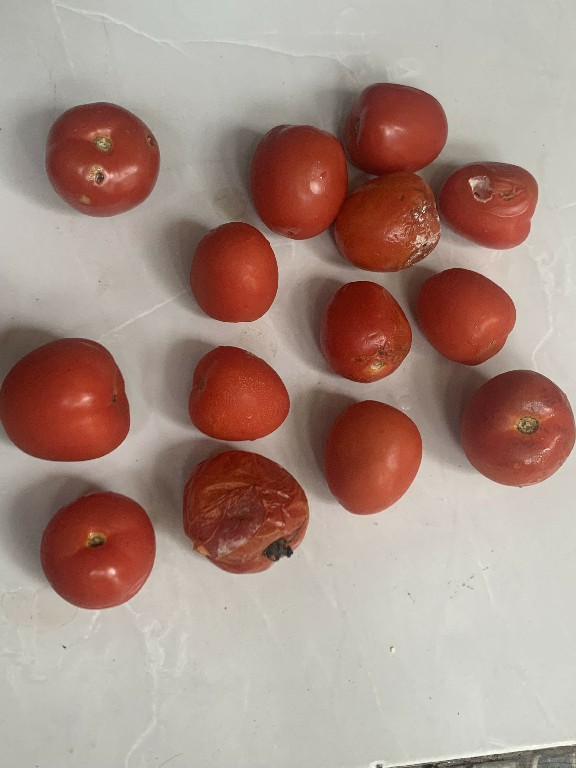NG: (179, 449, 314, 590), (41, 99, 169, 219), (458, 370, 575, 489), (330, 170, 446, 276), (315, 279, 412, 387), (435, 161, 548, 253)
OK: (0, 328, 141, 470), (31, 486, 158, 614), (317, 394, 420, 518), (180, 339, 296, 449), (247, 116, 347, 242), (414, 265, 518, 370), (341, 76, 445, 177), (187, 218, 284, 324)
